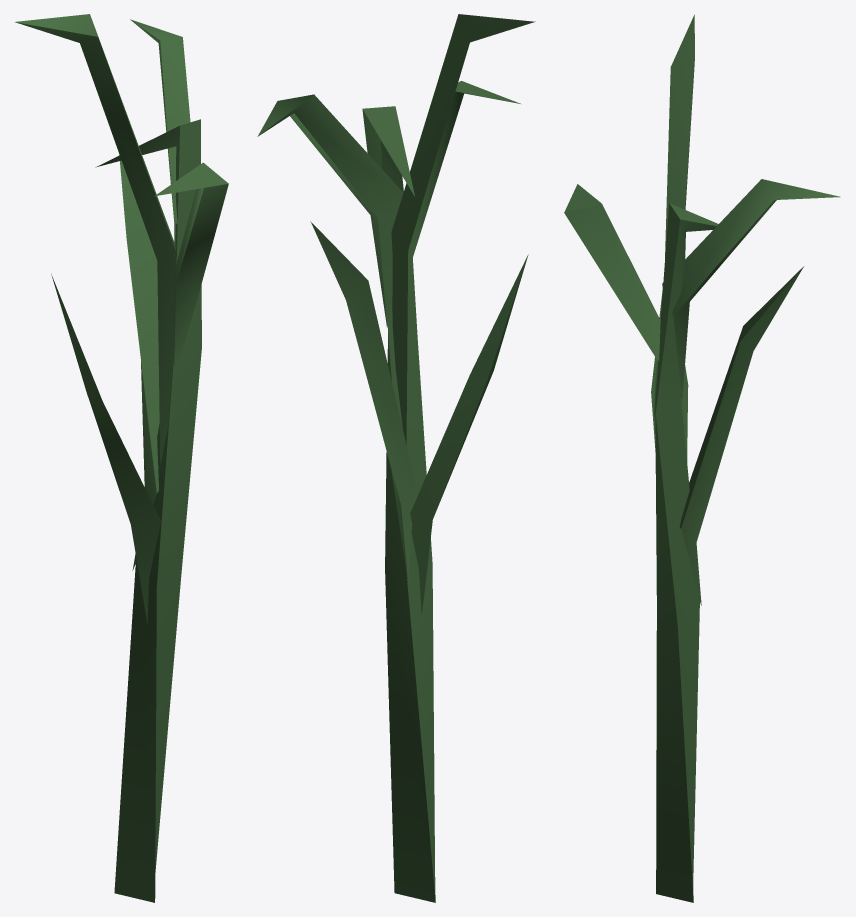
Rendered from Grass_5.fbx.
The picture shows the model from 3 angles, left to right: view 1: azimuth 30°, elevation 25°; view 2: azimuth 150°, elevation 25°; view 3: azimuth 270°, elevation 25°; orthographic projection. The views are drawn at different scales.
Parts seen in each view (by area): view 1: Grass_5; view 2: Grass_5; view 3: Grass_5.
Boxes of the visible parts, box(x1,y1,x2,y2) form: Grass_5: box(15, 14, 228, 902); Grass_5: box(257, 14, 535, 902); Grass_5: box(564, 14, 840, 902).
Bounding box in the file's own units: 9.11 × 36.76 × 11.2.
